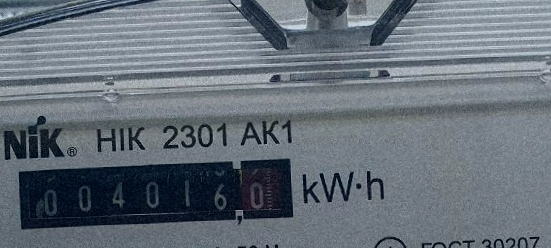0: (141, 176, 163, 211), (39, 184, 61, 218), (74, 180, 94, 214), (245, 178, 266, 210)
1: (179, 174, 195, 208)
4: (108, 176, 127, 210)
6: (209, 178, 229, 210)
screen: (10, 151, 301, 236)
